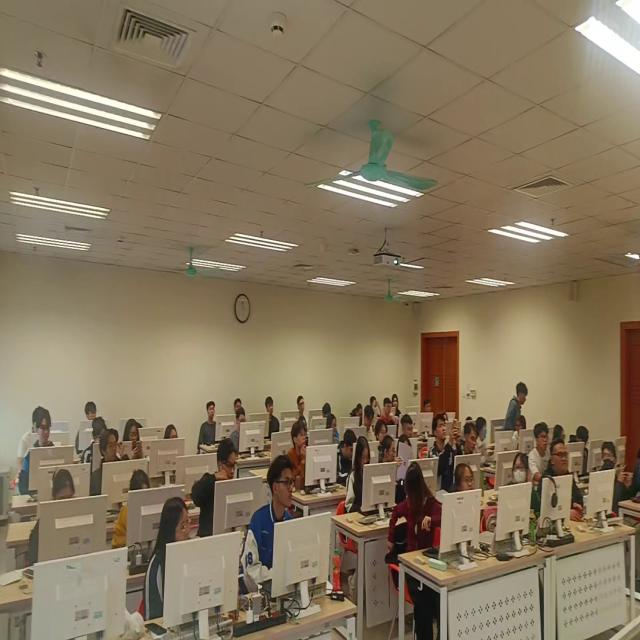raise_head: (241, 454, 297, 599), (144, 496, 192, 621), (537, 437, 584, 525), (91, 427, 121, 499), (528, 420, 551, 484), (288, 420, 309, 490), (198, 400, 219, 455), (265, 395, 282, 438), (374, 419, 389, 445), (85, 400, 101, 422), (297, 395, 308, 420), (393, 390, 402, 419), (424, 397, 433, 416), (234, 397, 243, 414), (444, 413, 450, 423)
stand: (504, 380, 529, 432)
using_computer: (193, 439, 239, 536), (29, 471, 77, 563), (114, 467, 152, 552), (21, 409, 55, 499), (346, 436, 373, 520), (18, 404, 43, 462), (336, 429, 360, 486), (83, 416, 107, 465), (452, 460, 479, 494), (229, 409, 249, 454), (462, 421, 478, 460), (363, 405, 376, 441), (384, 395, 399, 426), (326, 413, 340, 446), (163, 423, 180, 443), (352, 401, 365, 426), (403, 414, 415, 440), (371, 396, 383, 417), (323, 402, 332, 419), (467, 414, 473, 425)
using_phone: (428, 413, 460, 491), (123, 416, 145, 461)
